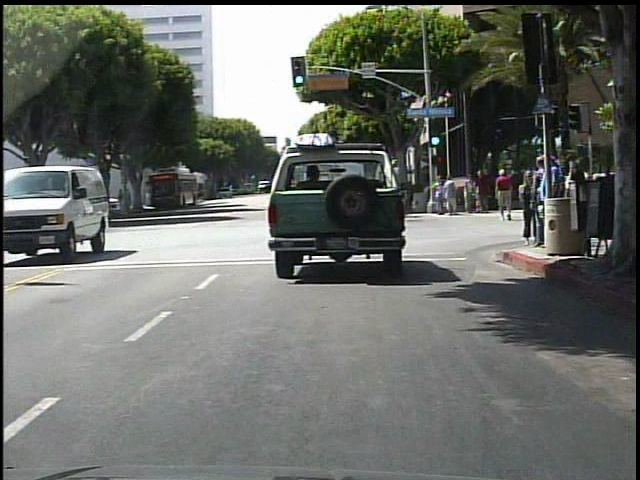person: (534, 152, 558, 258), (520, 169, 540, 247), (534, 153, 550, 249), (496, 167, 516, 222), (520, 177, 538, 224), (540, 171, 555, 219), (444, 176, 459, 217), (477, 169, 491, 212), (464, 173, 477, 213), (434, 176, 445, 215), (118, 189, 127, 212), (127, 188, 134, 213)
